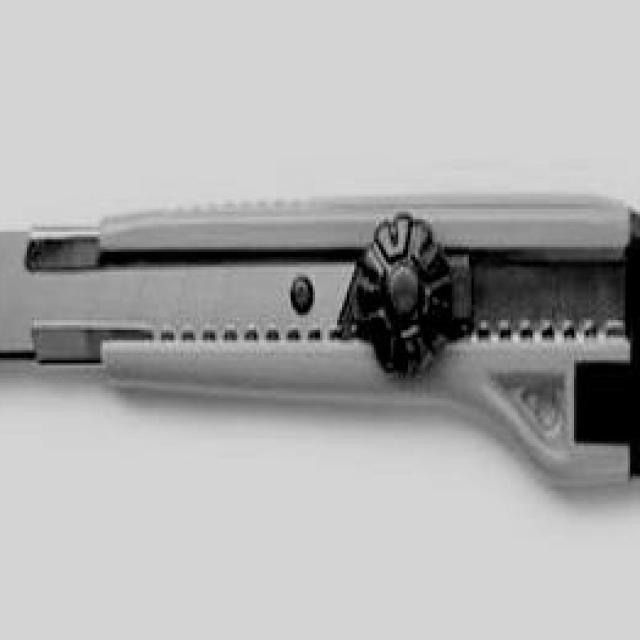estilete: (0, 196, 640, 484)
